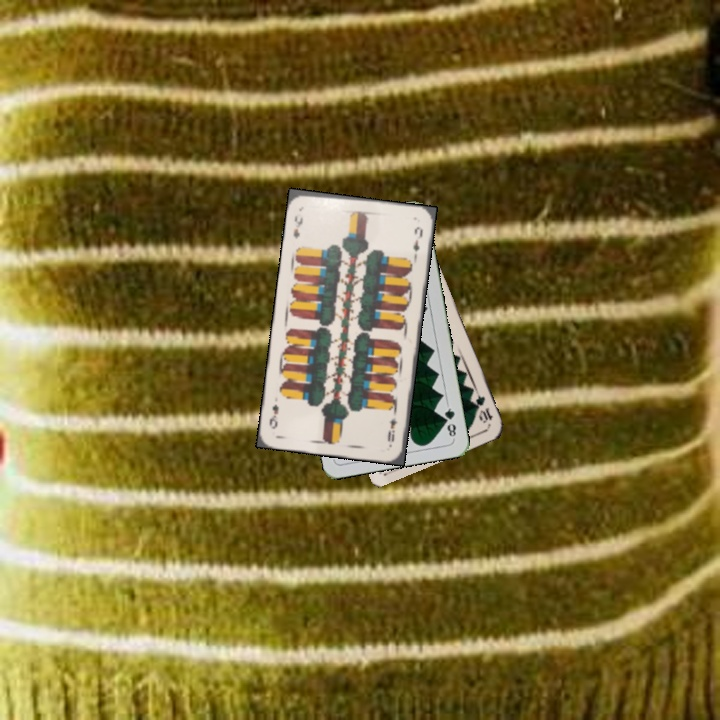E9: (383, 414, 400, 444), (289, 211, 305, 241)
G10: (471, 387, 495, 426)
G8: (440, 401, 459, 441)
